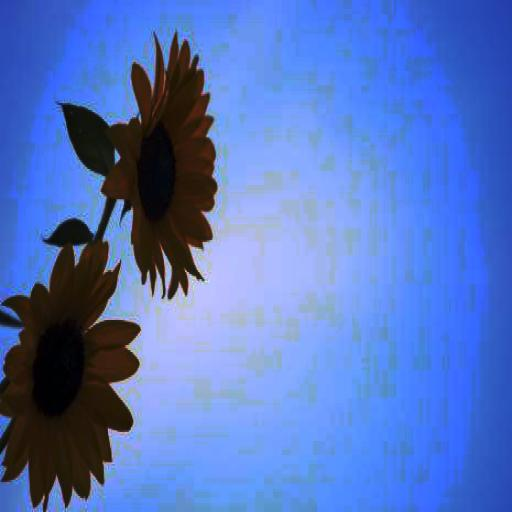sunflower: (2, 242, 140, 506), (104, 32, 218, 300)
